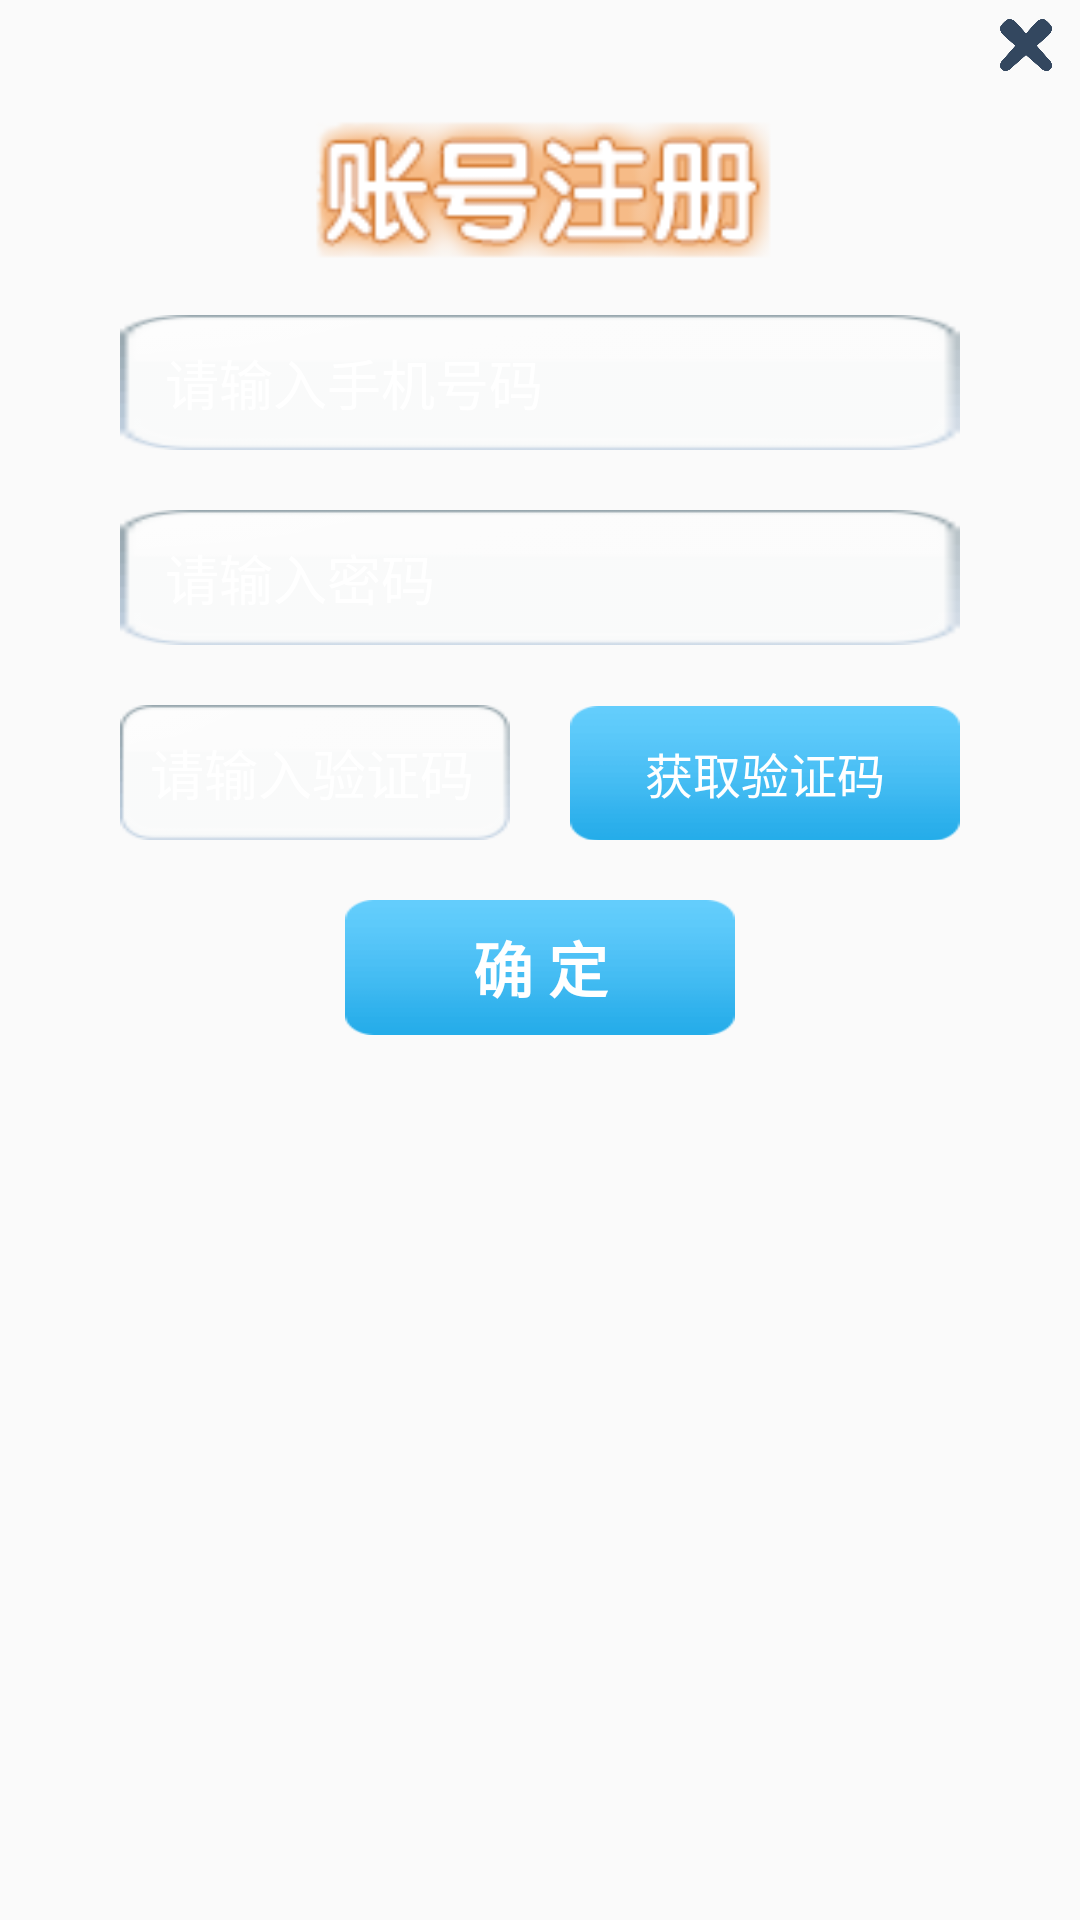

Point at icon controls on the screen. Image size 1080px x 1920px, points as (x,y).
close: (1026,45)
